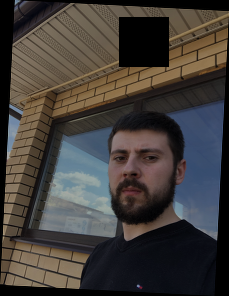without_mask: (105, 140, 175, 226)
